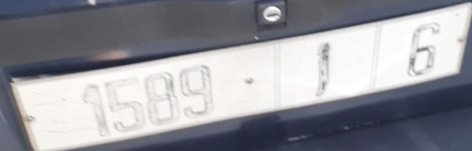1: (78, 80, 111, 141)
5: (107, 72, 143, 134)
6: (402, 22, 445, 77)
8: (141, 65, 180, 127)
9: (174, 63, 219, 118)
a: (301, 40, 339, 98)
